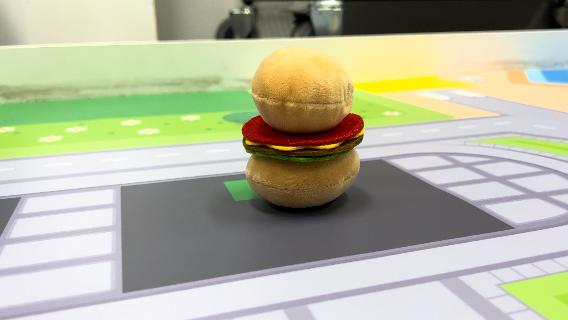burger: (238, 44, 369, 210)
